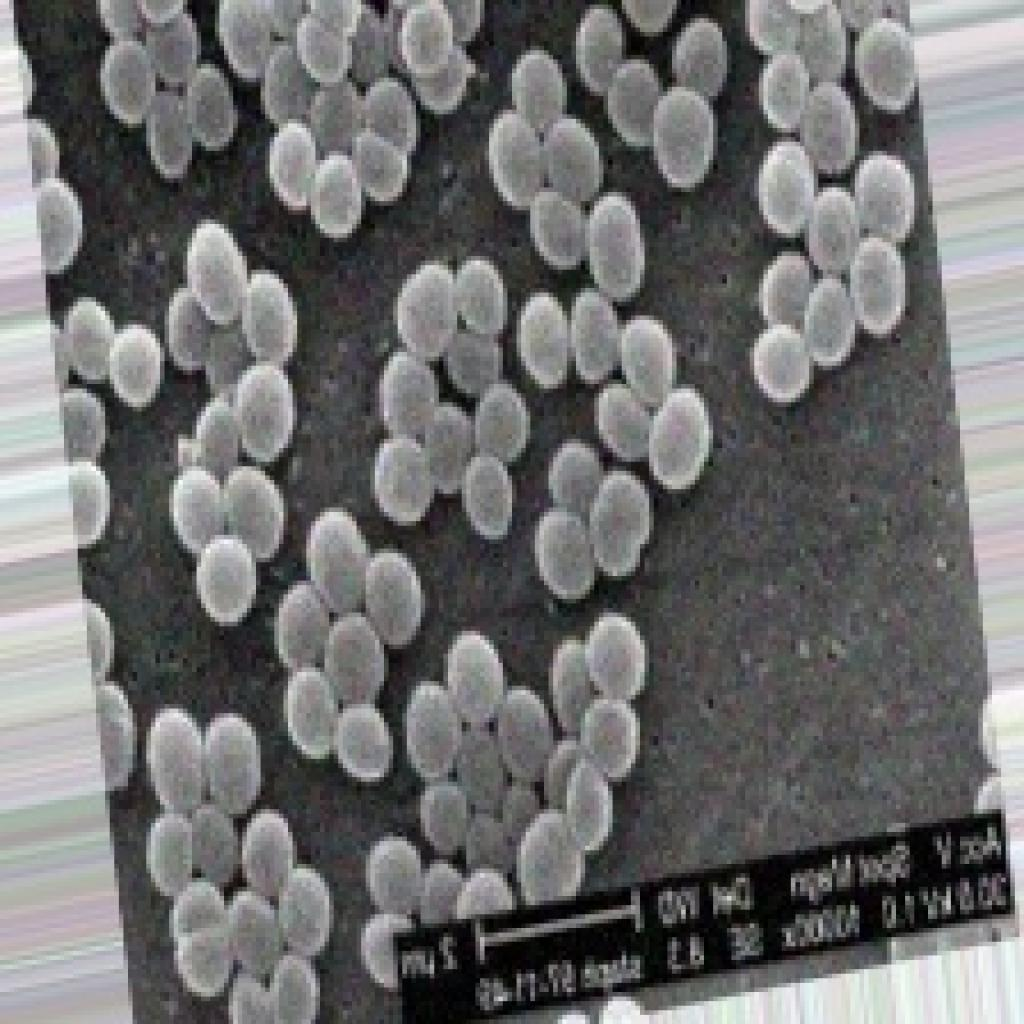Sphericalbacteria: (4, 0, 928, 1019)
